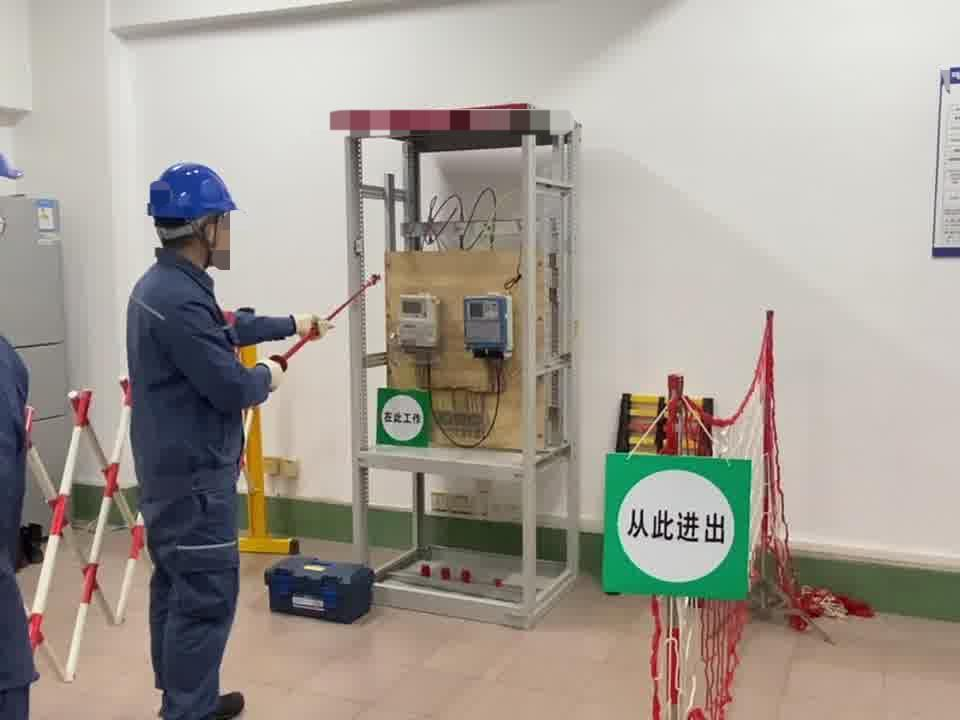halt: (148, 163, 247, 269)
inear: (191, 216, 225, 259)
